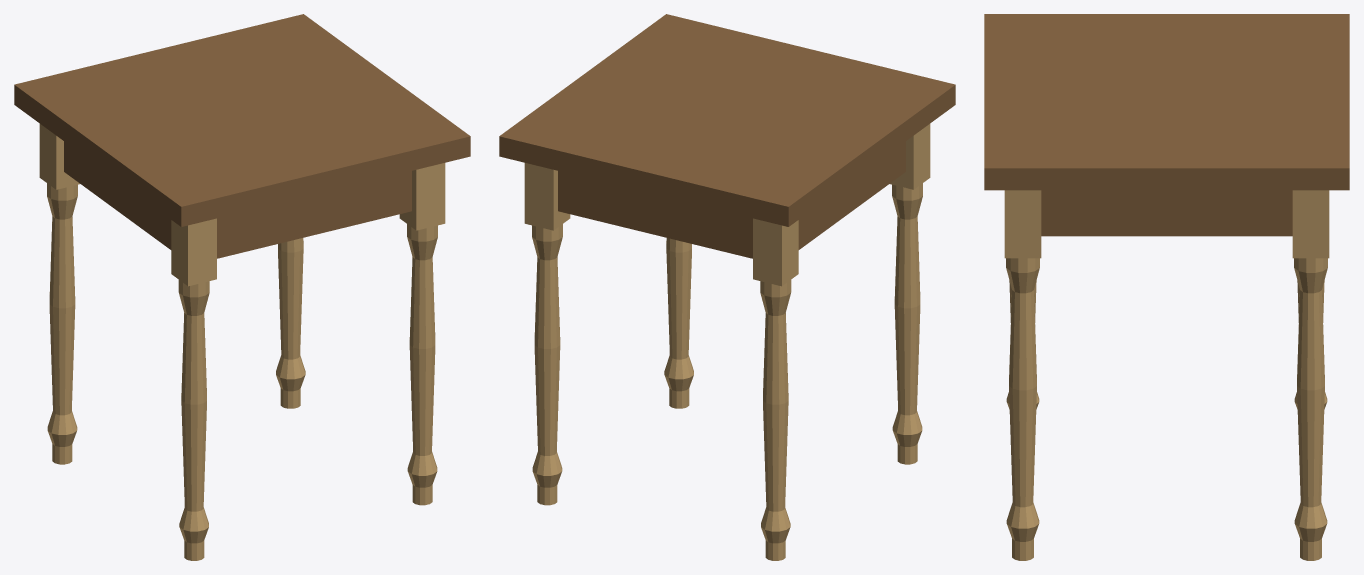
File: FET-SID-std.glb
3 renders of one model, left to right at view 1: azimuth 30°, elevation 25°; view 2: azimuth 150°, elevation 25°; view 3: azimuth 270°, elevation 25°, orthographic. The views are drawn at different scales.
Visible parts, largest first — view 1: top:pbr, leg-fl:pbr, leg-fr:pbr, leg-bl:pbr, apron-f:pbr, leg-br:pbr, apron-l:pbr; view 2: top:pbr, leg-bl:pbr, leg-br:pbr, leg-fl:pbr, apron-b:pbr, leg-fr:pbr, apron-l:pbr; view 3: top:pbr, apron-r:pbr, leg-fr:pbr, leg-br:pbr.
Boxes of the visible parts, x1,y1,x2,y2 form: top:pbr: (14, 14, 470, 226); leg-fl:pbr: (171, 218, 216, 560); leg-fr:pbr: (399, 163, 445, 505); leg-bl:pbr: (39, 124, 79, 464); apron-f:pbr: (217, 171, 411, 258); leg-br:pbr: (276, 238, 305, 408); apron-l:pbr: (64, 141, 171, 249); top:pbr: (499, 14, 955, 226); leg-bl:pbr: (753, 218, 798, 560); leg-br:pbr: (524, 163, 570, 505); leg-fl:pbr: (890, 124, 930, 464); apron-b:pbr: (558, 171, 752, 258); leg-fr:pbr: (664, 238, 693, 408); apron-l:pbr: (798, 141, 905, 249); top:pbr: (984, 14, 1349, 190); apron-r:pbr: (1041, 190, 1292, 236); leg-fr:pbr: (1004, 190, 1041, 560); leg-br:pbr: (1292, 190, 1329, 560).
Size of the model in its own units: 0.45 by 0.55 by 0.45.
